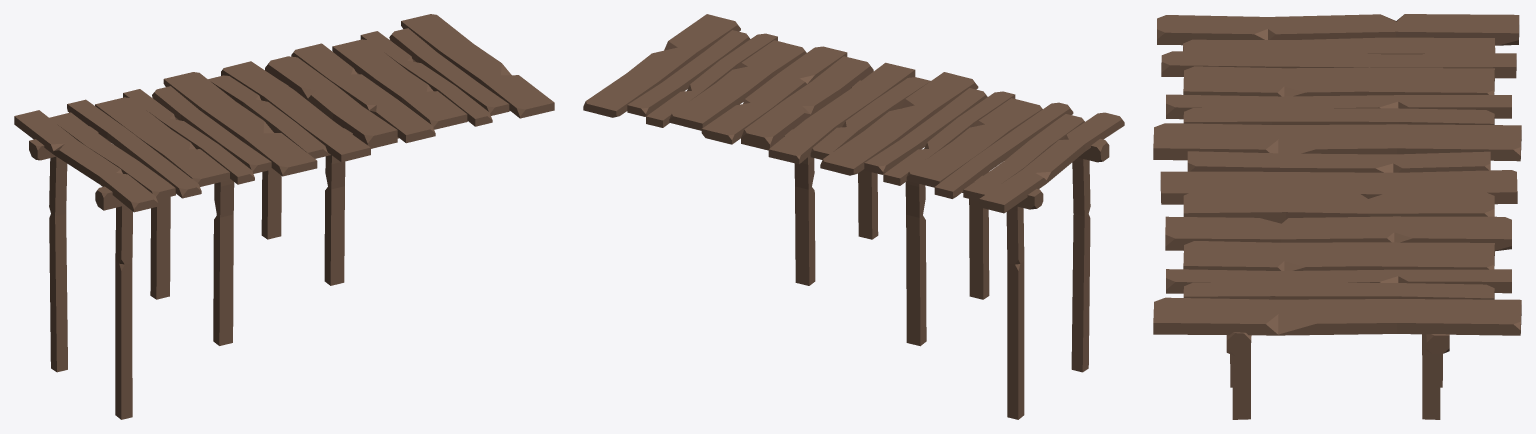
Rendered from Planks.fbx.
3 views of the same model, side by side, from view 1: azimuth 30°, elevation 25°; view 2: azimuth 150°, elevation 25°; view 3: azimuth 270°, elevation 25° (orthographic). The views are drawn at different scales.
Visible parts, largest first — view 1: Planks; view 2: Planks; view 3: Planks.
Boxes of the visible parts, x1,y1,x2,y2 form: Planks: (14,14,554,419); Planks: (583,14,1124,419); Planks: (1153,14,1521,419).
Bounding box in the file's own units: 1.56 × 0.8228 × 0.7675.
